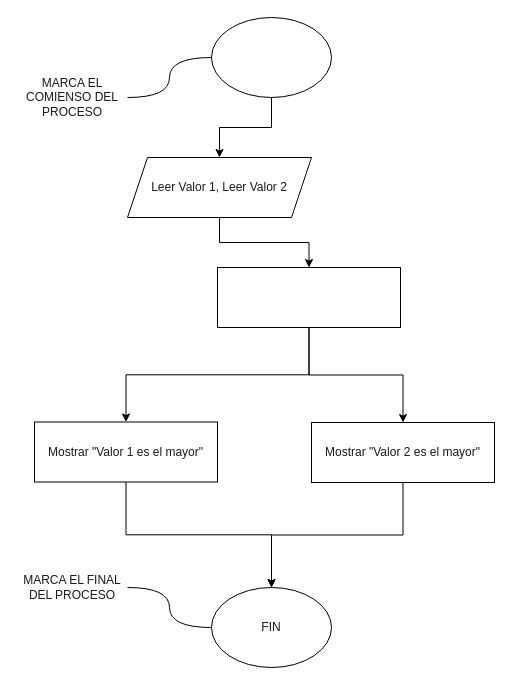
This 512x685 diagram has some shape labels left out. Here are the shapes that lost their labels. From the top down, the box of each, then its label:
(210, 16, 332, 98): INICIO
(216, 266, 400, 328): ¿Valor1 > Valor2?
